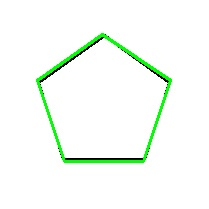line_segment: (37, 34, 171, 162)
